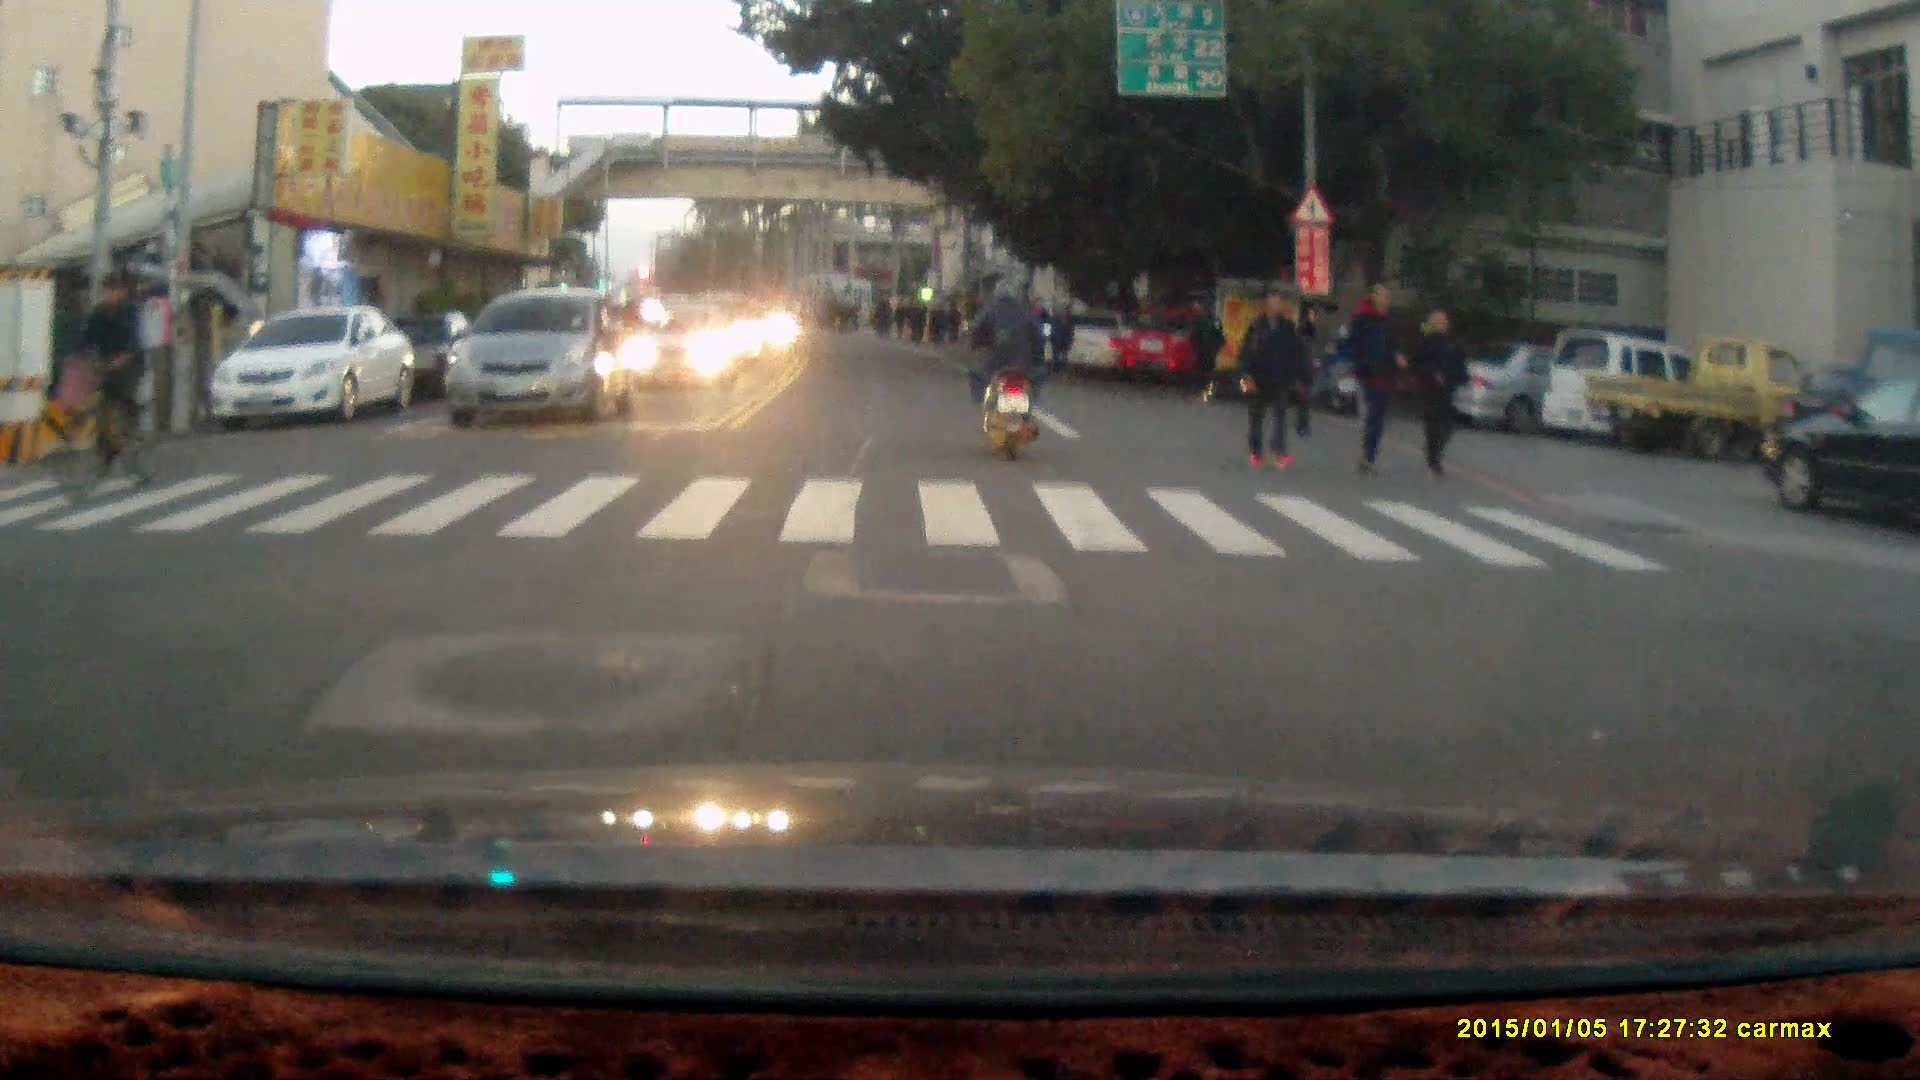pedestrian: (1340, 271, 1409, 481), (1236, 284, 1303, 476), (1411, 307, 1472, 483), (1184, 296, 1223, 405), (1050, 299, 1078, 381)
rider: (52, 268, 167, 509), (960, 277, 1049, 463)
vehicle: (1580, 333, 1823, 458), (439, 286, 635, 424), (209, 303, 418, 426), (1761, 375, 1920, 525), (1426, 336, 1662, 425), (372, 304, 499, 407), (627, 304, 737, 389), (1110, 302, 1217, 382)
